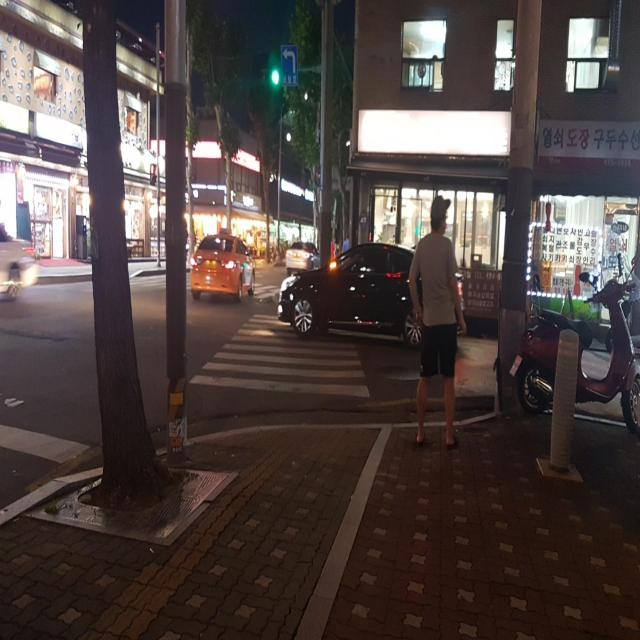횡단보도: (187, 312, 371, 400)
